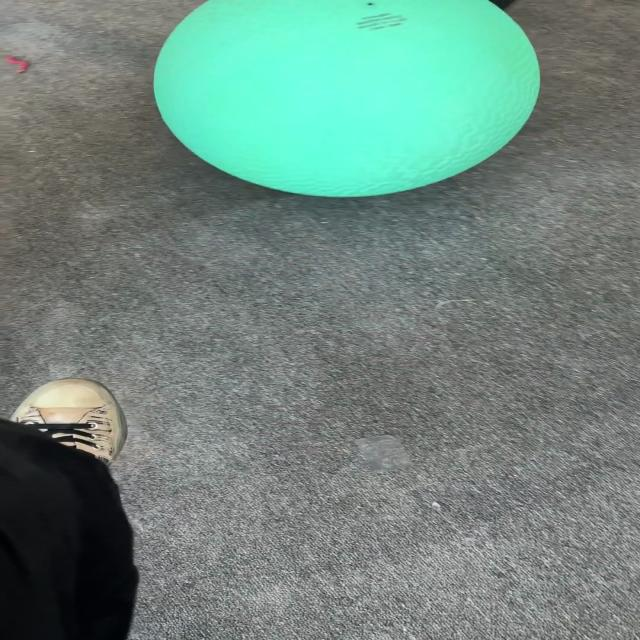Algae: (151, 0, 542, 198)
